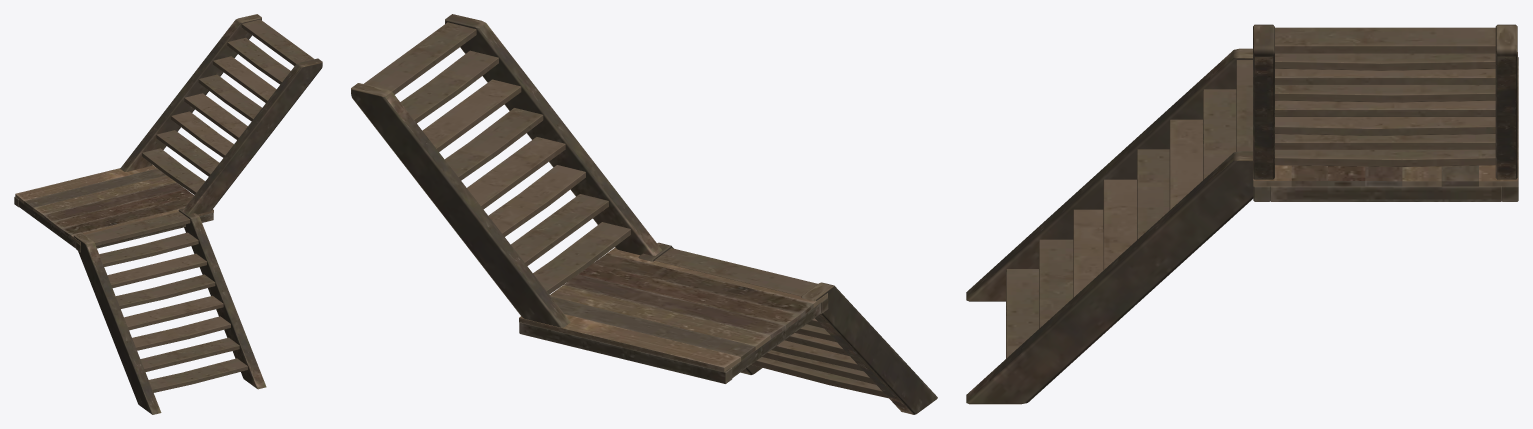
The model's file is block.stair.lshape.frontier.glb.
The picture shows the model from 3 angles, left to right: view 1: azimuth 30°, elevation 25°; view 2: azimuth 150°, elevation 25°; view 3: azimuth 270°, elevation 25°; orthographic projection. The views are drawn at different scales.
Visible parts, largest first — view 1: block.stair.simple (×2), block.stair.landing.150x150_LOD0; view 2: block.stair.simple (×2), block.stair.landing.150x150_LOD0; view 3: block.stair.simple (×2), block.stair.landing.150x150_LOD0.
Boxes of the visible parts, <box> form: block.stair.simple (×2): <box>73,14,322,414</box>; block.stair.landing.150x150_LOD0: <box>14,164,213,252</box>; block.stair.simple (×2): <box>351,14,937,414</box>; block.stair.landing.150x150_LOD0: <box>519,247,828,383</box>; block.stair.simple (×2): <box>966,24,1517,404</box>; block.stair.landing.150x150_LOD0: <box>1253,52,1518,201</box>.
Size of the model in its own units: 3.19 by 3.04 by 3.14.
Materials: 1 (1 with a texture image).
